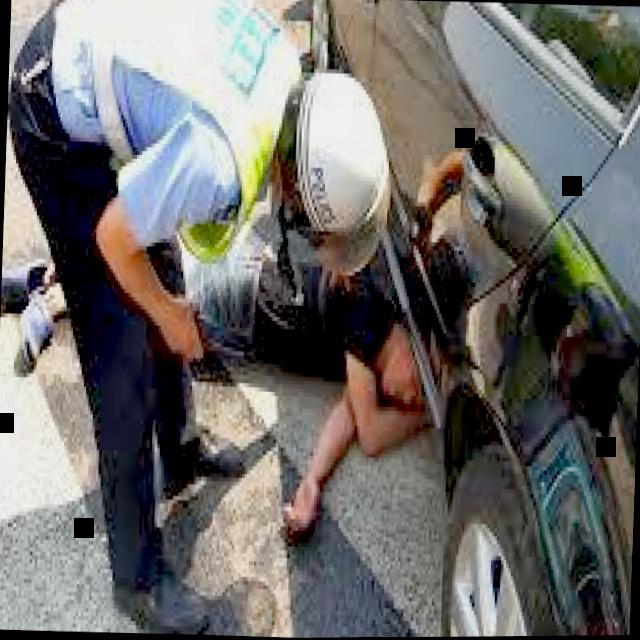Fall-Detected: (0, 120, 465, 554)
